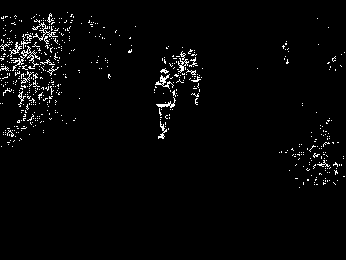person: (153, 68, 178, 139)
